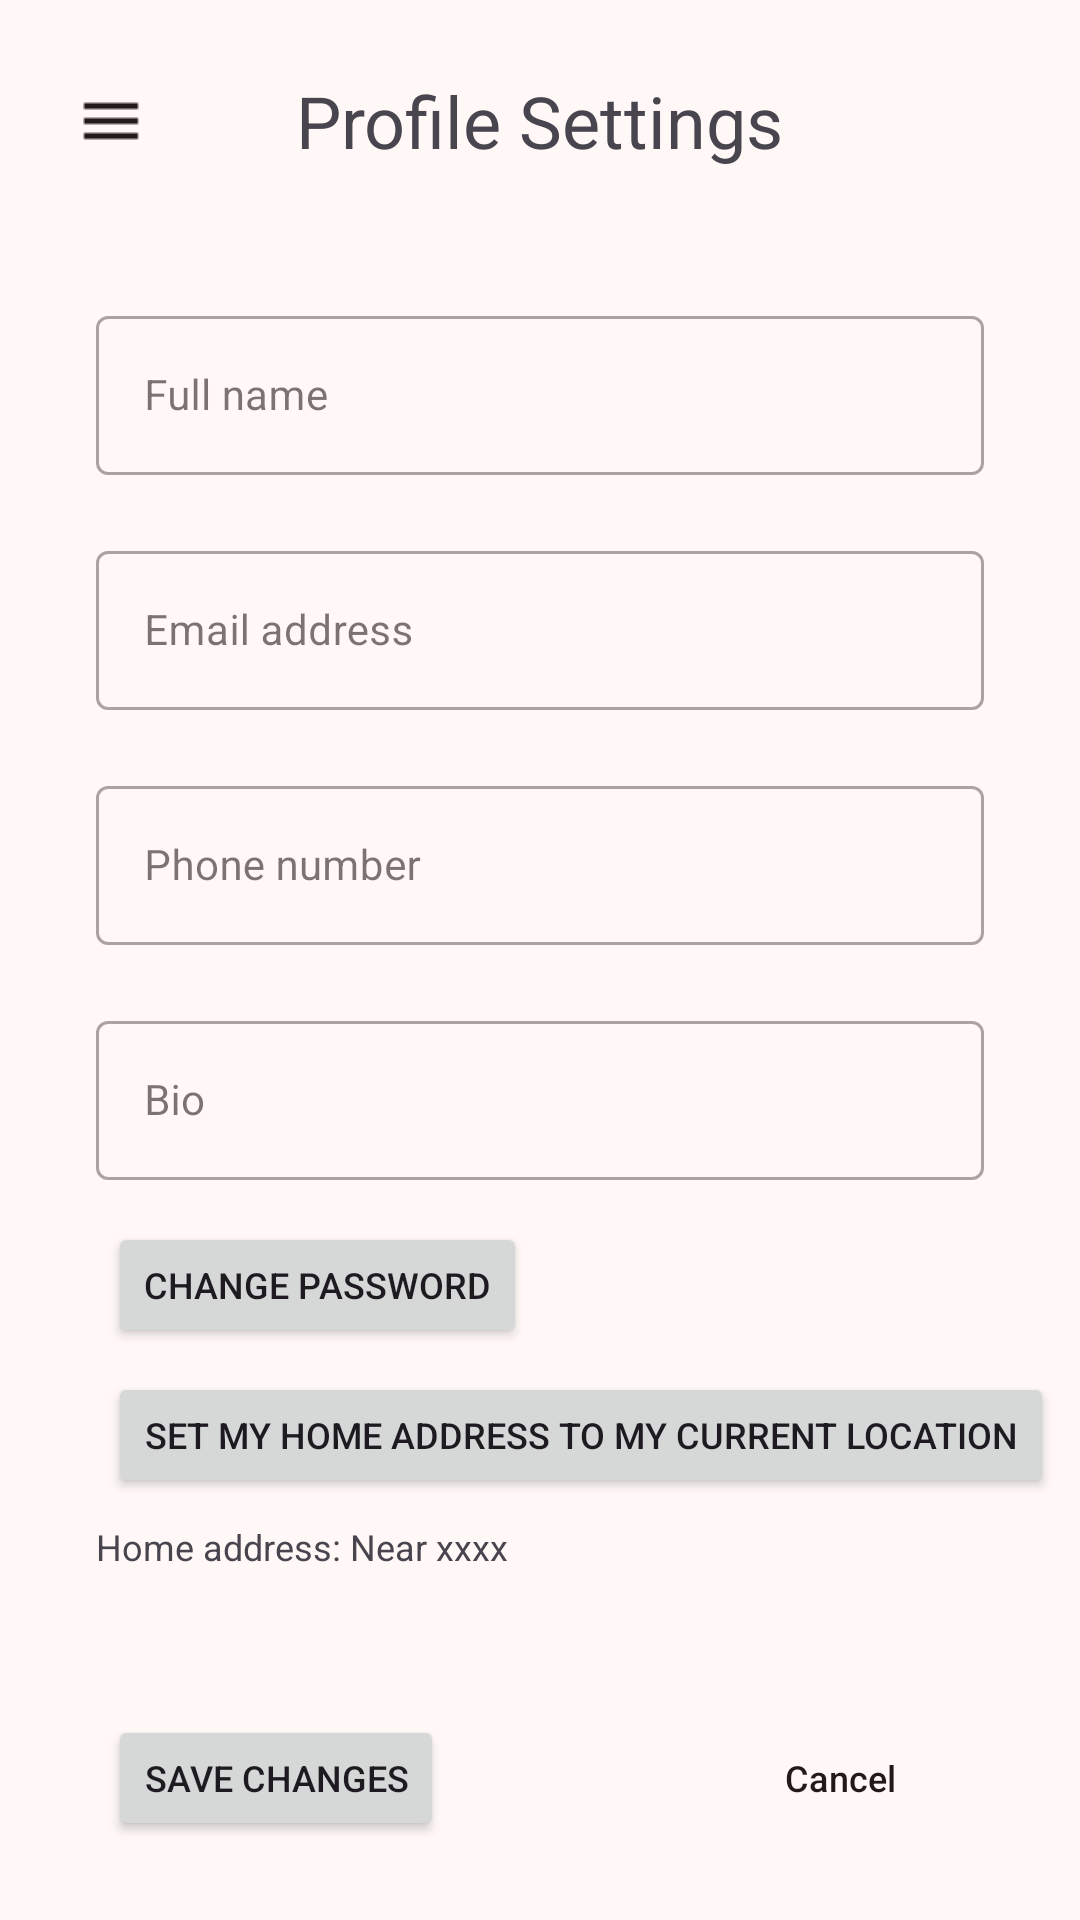

Where to tap for icons on this 1080x1920 app screen, as (x,y):
menu: (111,121)
